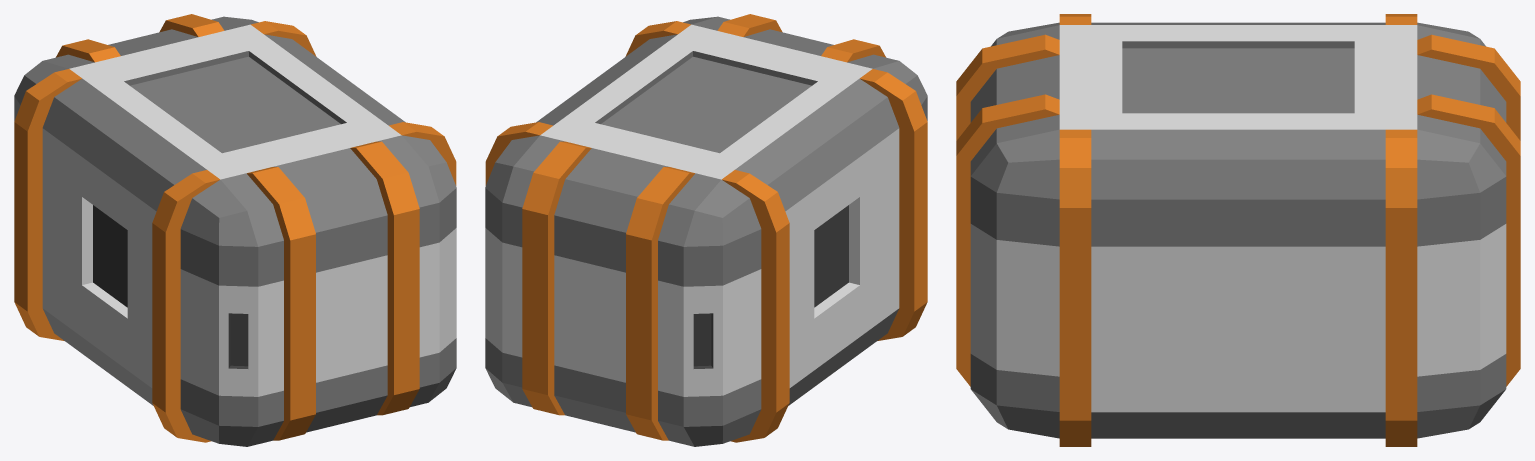
The model's file is CaixaDeParafusos.fbx.
3 renders of one model, left to right at view 1: azimuth 30°, elevation 25°; view 2: azimuth 150°, elevation 25°; view 3: azimuth 270°, elevation 25°, orthographic. The views are drawn at different scales.
Parts seen in each view (by area): view 1: Cube.002, Cube; view 2: Cube.002, Cube; view 3: Cube.002, Cube.
Part boxes in pixels (x1=…): Cube.002: x1=14, y1=14, x2=456, y2=286; Cube: x1=14, y1=162, x2=456, y2=446; Cube.002: x1=485, y1=14, x2=927, y2=286; Cube: x1=485, y1=162, x2=927, y2=446; Cube.002: x1=956, y1=14, x2=1520, y2=254; Cube: x1=956, y1=203, x2=1520, y2=446.
Bounding box in the file's own units: 148 × 211 × 129.
